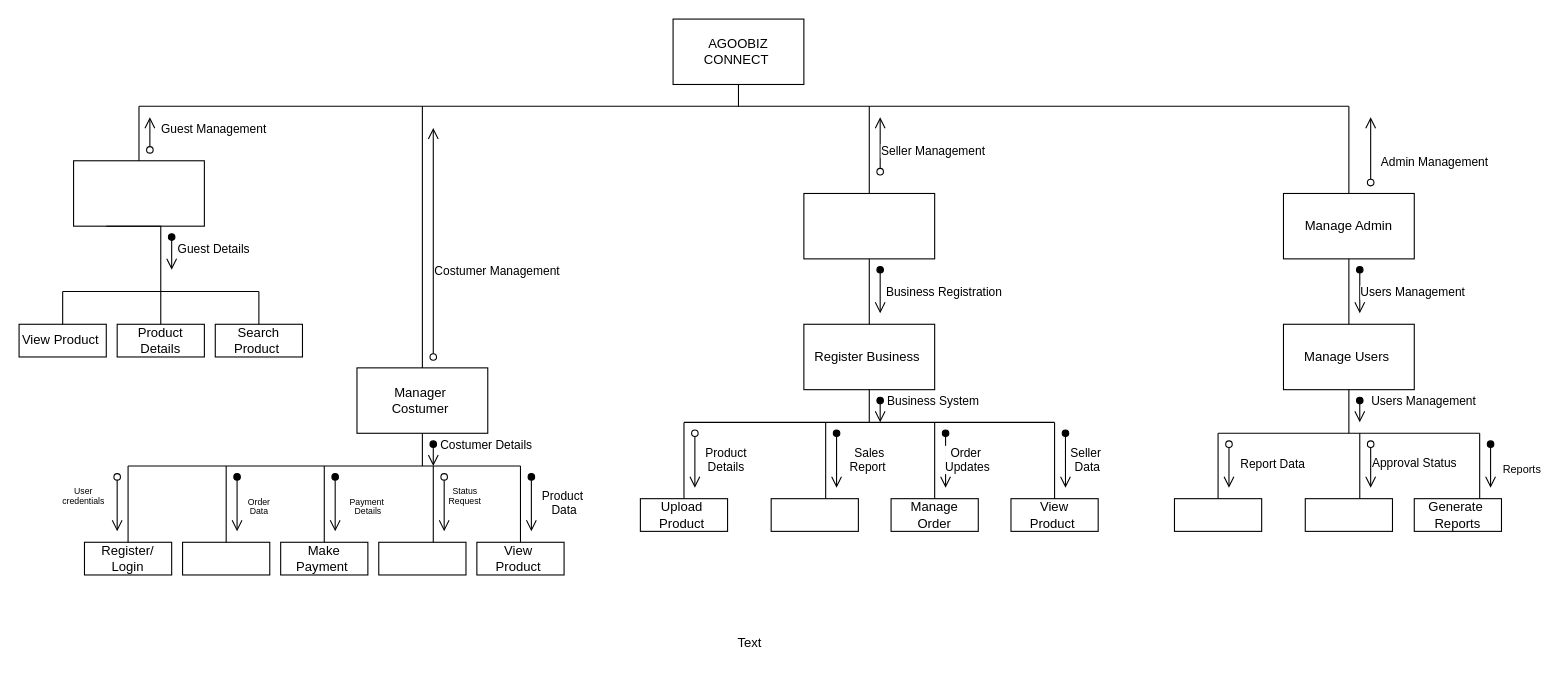
The diagram is 1563 pixels wide and 679 high, and some of its shapes have lost their labels. The shapes that lost their labels are listed below. From the top down, each one's centre as x and y in pixels, then its label:
(138,193): Manager Guest
(869,225): Manage Seller
(814,514): View Seller
(1217,514): Handle Reports
(1348,514): Approve/ Reject Seller
(225,558): Place Order
(422,558): Order Status
